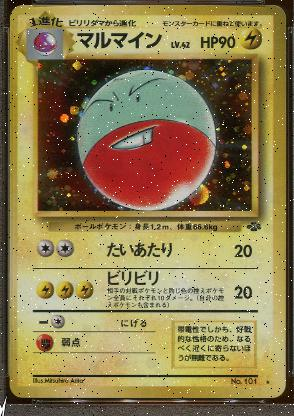Card: (7, 1, 287, 400)
